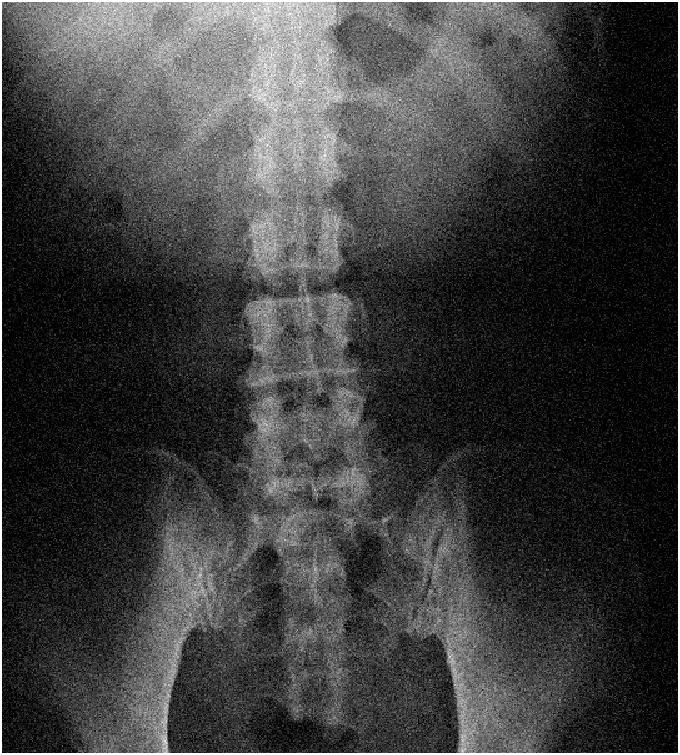lumbar scoliosis: (244, 88, 366, 545)
